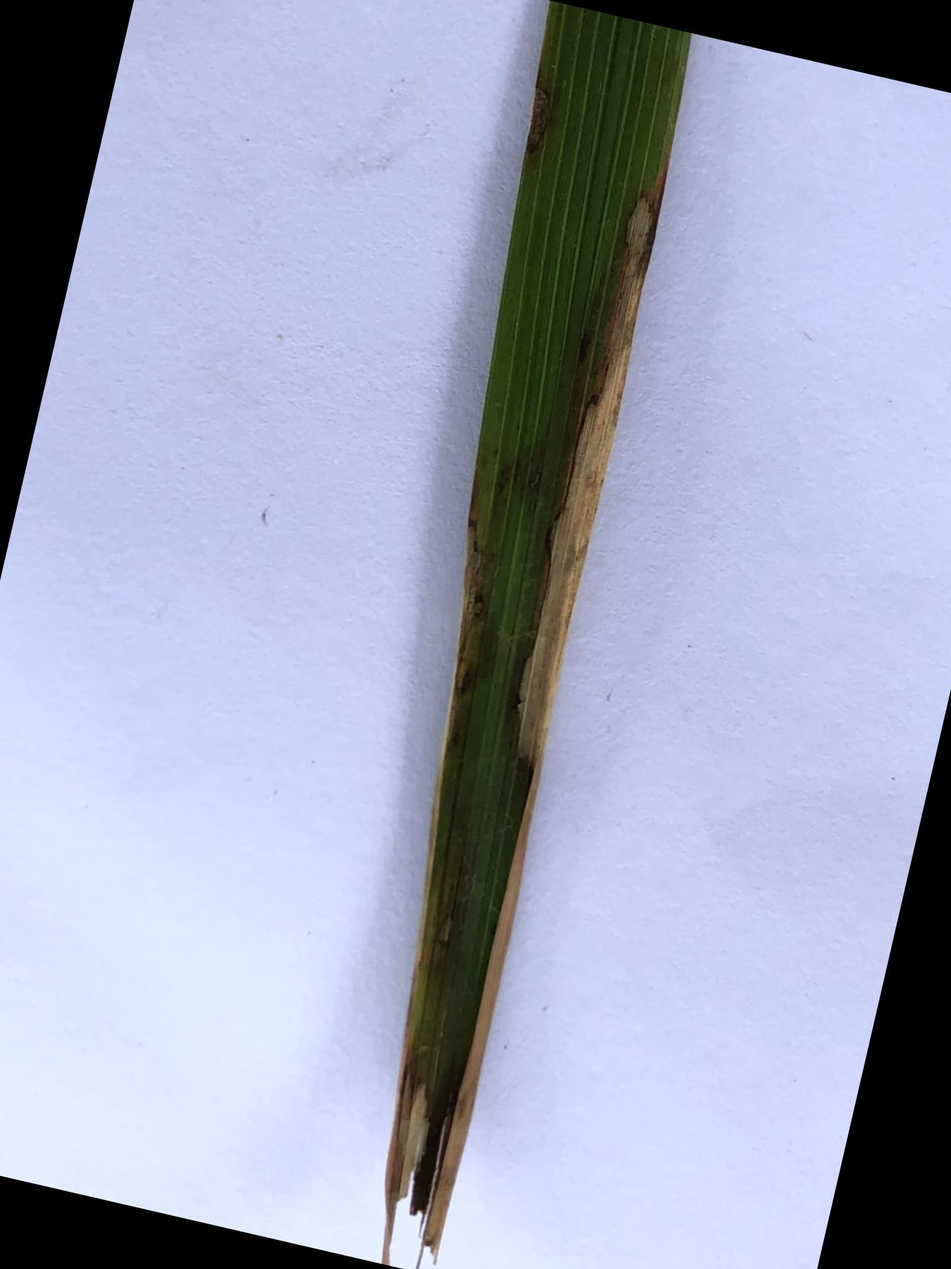Leaf Blight: (426, 189, 663, 1253), (382, 522, 496, 1266), (524, 77, 551, 157)
